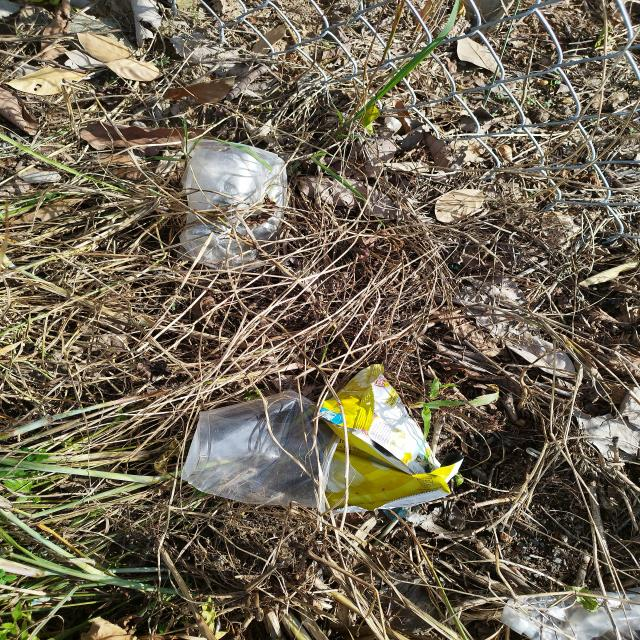plastic glass: (182, 391, 334, 508), (182, 140, 286, 264)
snack package: (320, 365, 463, 515)
